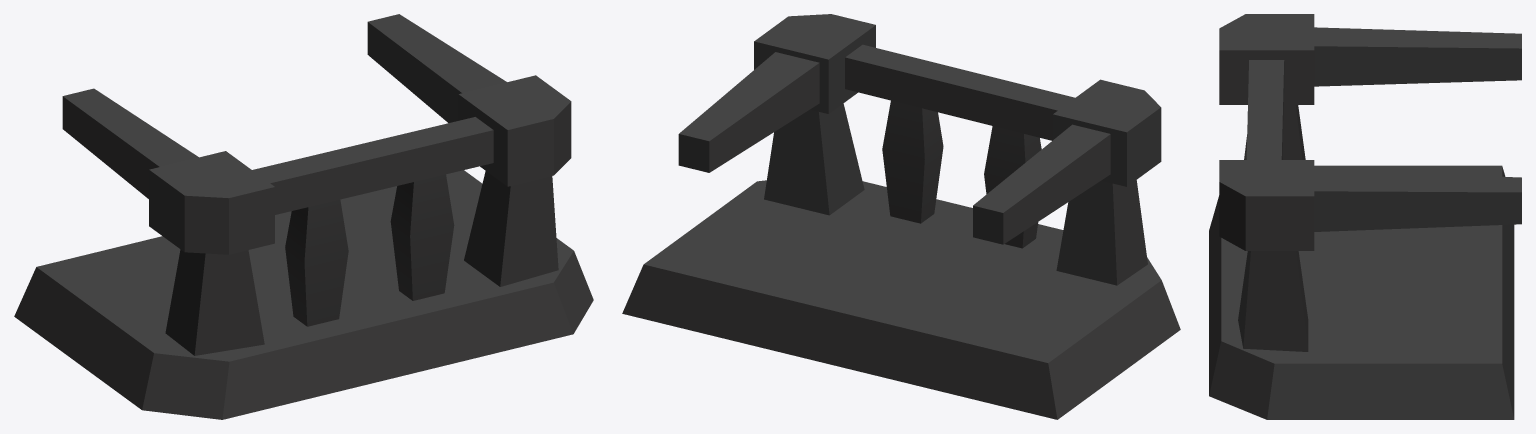
The model's file is Balcony_D2.fbx.
3 renders of one model, left to right at view 1: azimuth 30°, elevation 25°; view 2: azimuth 150°, elevation 25°; view 3: azimuth 270°, elevation 25°, orthographic. The views are drawn at different scales.
Parts seen in each view (by area): view 1: Balcony_D2; view 2: Balcony_D2; view 3: Balcony_D2.
Boxes of the visible parts, left/top/right/bottom form: Balcony_D2: left=14, top=14, right=593, bottom=419; Balcony_D2: left=622, top=14, right=1180, bottom=419; Balcony_D2: left=1209, top=14, right=1521, bottom=419.
Size of the model in its own units: 293 by 133 by 182.
